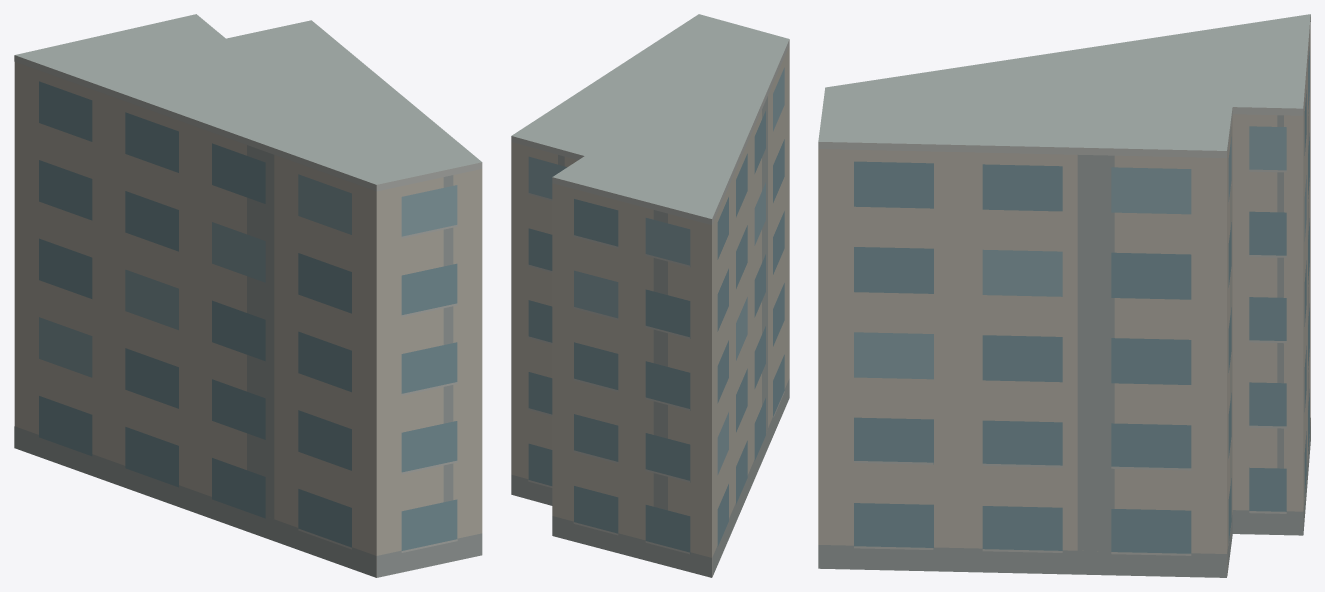
File: survey-upis-32730092.glb
The picture shows the model from 3 angles, left to right: view 1: azimuth 30°, elevation 25°; view 2: azimuth 150°, elevation 25°; view 3: azimuth 270°, elevation 25°; orthographic projection. The views are drawn at different scales.
Visible parts, largest first — view 1: survey-upis-32730092.tmp; view 2: survey-upis-32730092.tmp; view 3: survey-upis-32730092.tmp.
Boxes of the visible parts, left/top/right/bottom form: survey-upis-32730092.tmp: left=14, top=14, right=482, bottom=577; survey-upis-32730092.tmp: left=511, top=14, right=789, bottom=577; survey-upis-32730092.tmp: left=818, top=14, right=1310, bottom=577.
Size of the model in its own units: 10.02 by 14.55 by 15.22.
